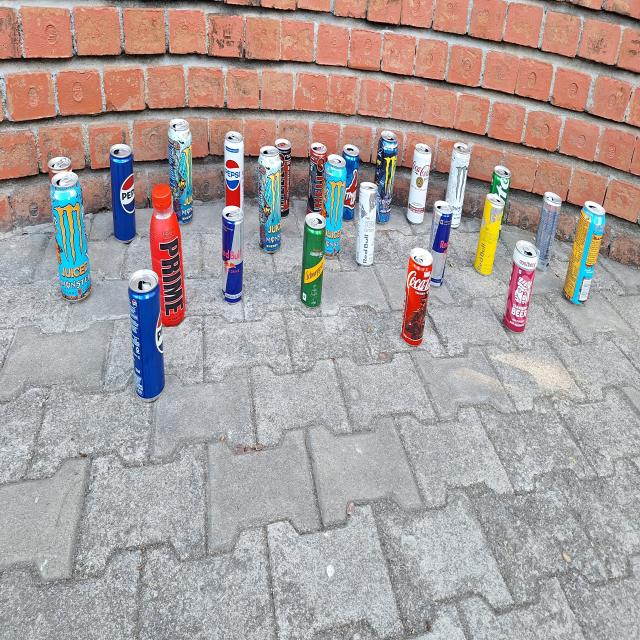Coca Cola - Marvel: (399, 252, 432, 348)
Coca Cola Plus: (406, 146, 434, 223)
Coolberg: (504, 247, 538, 331)
Hell Apple: (309, 143, 324, 212)
Hell Classic: (277, 137, 291, 220)
Monster Aussie Lemonade: (167, 121, 196, 225), (257, 149, 284, 253)
Monster LH44: (376, 135, 398, 223)
Monster Mango Loco: (52, 172, 94, 302), (563, 206, 607, 303), (323, 165, 346, 256)
Pepsi: (128, 273, 168, 398), (109, 145, 140, 241)
Pepsi Retro: (224, 132, 245, 205)
Prime - Shitass: (153, 192, 183, 312)
Redbul: (219, 208, 246, 302), (428, 203, 452, 286), (534, 193, 565, 247)
Redbull Summer Edition: (359, 180, 378, 268)
Redbull Yellow Edition: (473, 200, 505, 274)
Schweppes: (300, 214, 324, 307)
Sprite: (493, 163, 512, 205)
Thums Up: (344, 144, 358, 222)
White Monster: (448, 148, 469, 230)
